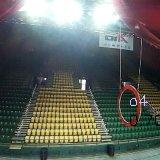Orange_Circle_GShape: (116, 86, 143, 128)
